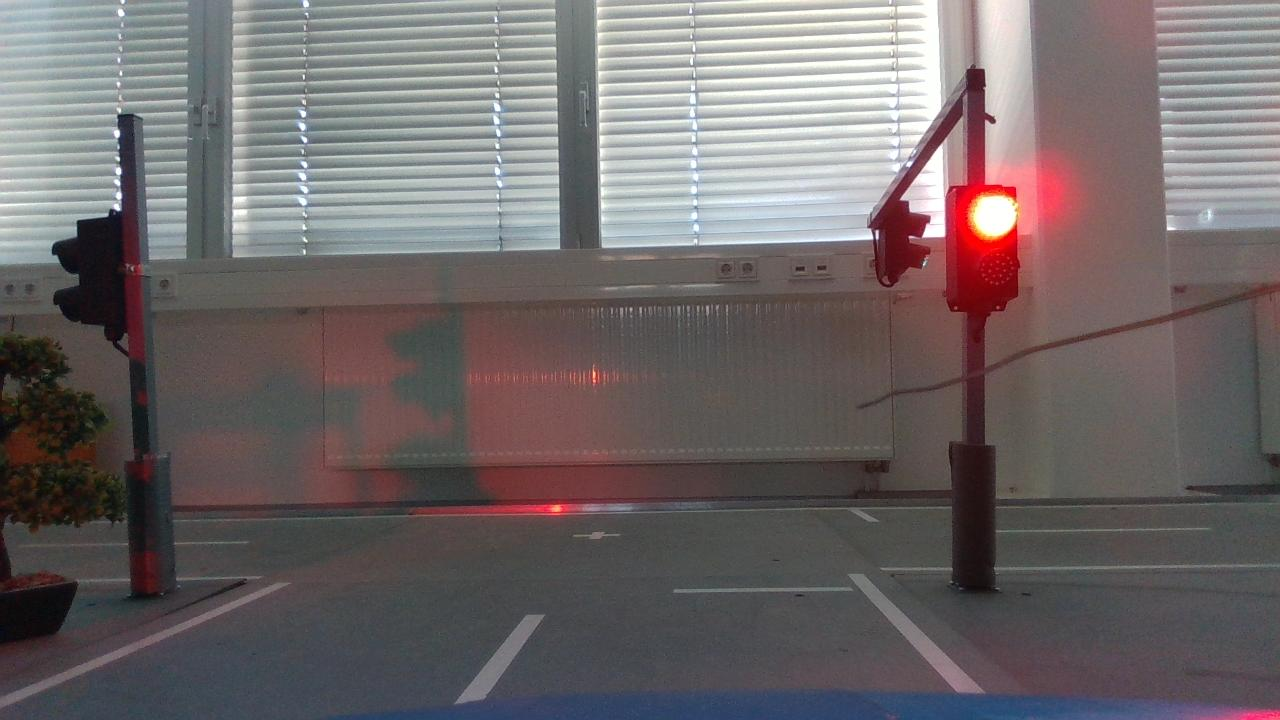traffic_light_red: (938, 182, 1028, 321)
